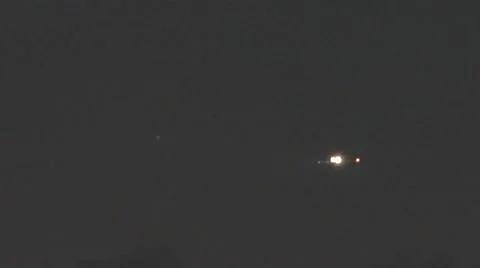Plane: (295, 135, 388, 178)
